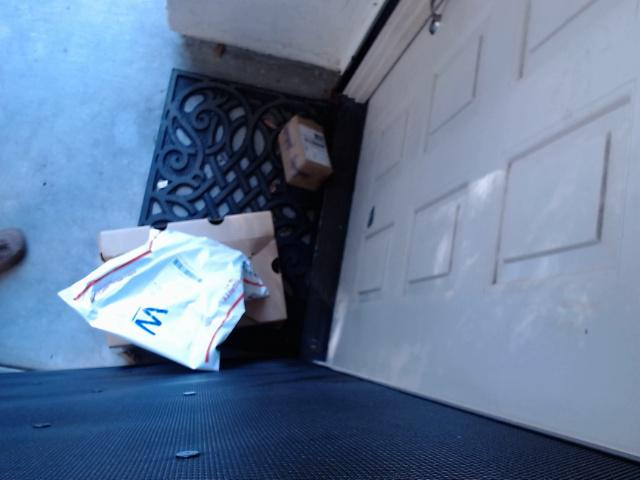box: (99, 210, 287, 366), (276, 113, 332, 192)
plastic_bag: (57, 228, 270, 371)
